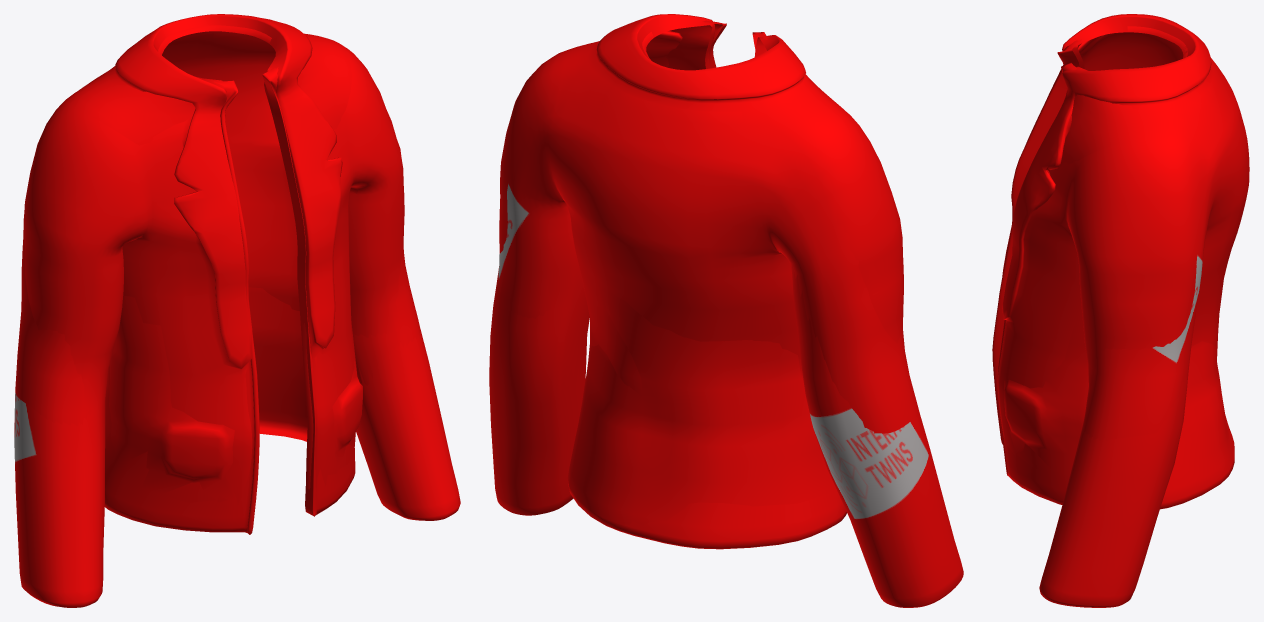
File: RopaCorregida.fbx
The picture shows the model from 3 angles, left to right: view 1: azimuth 30°, elevation 25°; view 2: azimuth 150°, elevation 25°; view 3: azimuth 270°, elevation 25°; orthographic projection. The views are drawn at different scales.
Visible parts, largest first — view 1: Blazer, Chaqueta; view 2: Blazer, Chaqueta; view 3: Blazer, Chaqueta.
Part boxes in pixels (box(x1,y1,x2,y2)): Blazer: box(14, 14, 460, 607); Chaqueta: box(15, 25, 420, 534); Blazer: box(489, 14, 963, 607); Chaqueta: box(491, 20, 919, 549); Blazer: box(997, 14, 1242, 607); Chaqueta: box(992, 26, 1249, 504).
Bounding box in the file's own units: 155 × 175 × 86.07.
Materials: 1 (1 with a texture image).
